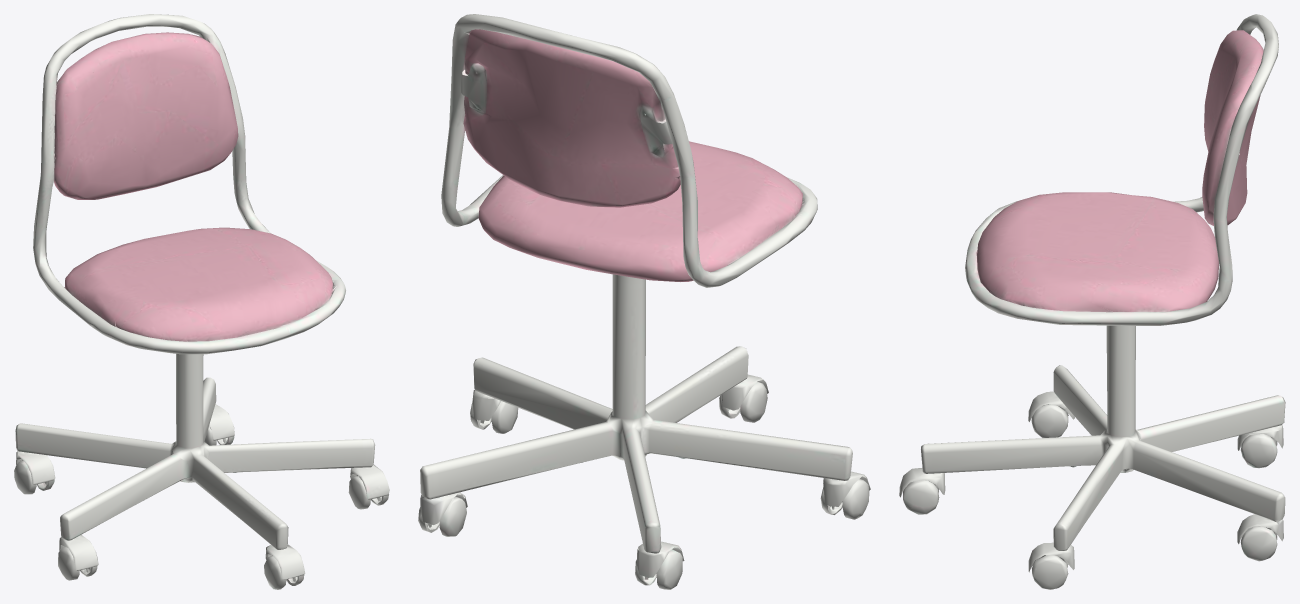
Rendered from 38 - ÖRFJÄLL Children_s desk chair - whiteVissle pink.glb.
3 renders of one model, left to right at view 1: azimuth 30°, elevation 25°; view 2: azimuth 150°, elevation 25°; view 3: azimuth 270°, elevation 25°, orthographic. The views are drawn at different scales.
Parts seen in each view (by area): view 1: 70441769-Ãƒâ€“RFJÃƒâ€žLL001; view 2: 70441769-Ãƒâ€“RFJÃƒâ€žLL001; view 3: 70441769-Ãƒâ€“RFJÃƒâ€žLL001.
Part boxes in pixels (box(x1,y1,x2,y2)): 70441769-Ãƒâ€“RFJÃƒâ€žLL001: box(14, 14, 389, 589); 70441769-Ãƒâ€“RFJÃƒâ€žLL001: box(418, 14, 870, 589); 70441769-Ãƒâ€“RFJÃƒâ€žLL001: box(899, 14, 1285, 589).
Size of the model in its own units: 0.5393 by 0.7152 by 0.5307.
1 material, 1 textured.
